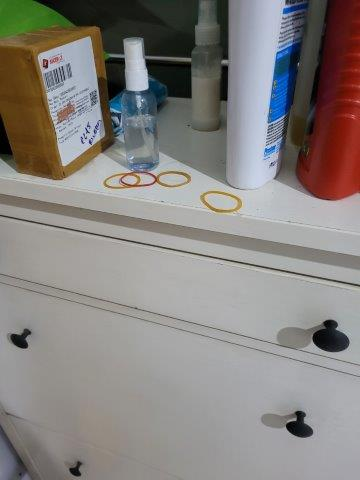karet: (200, 190, 242, 214), (103, 172, 141, 190), (121, 171, 158, 189), (155, 171, 191, 188)
